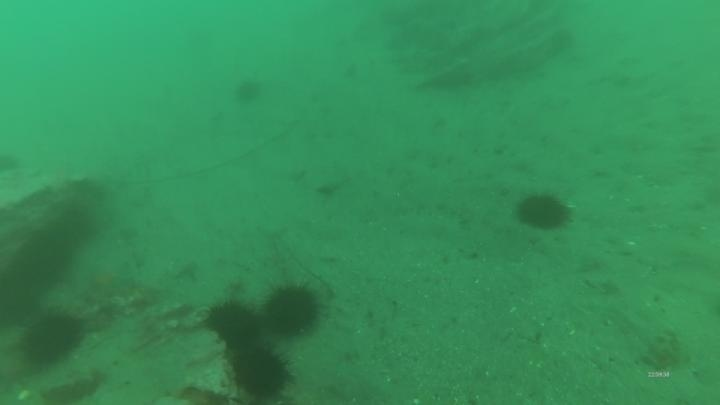echinus: (18, 306, 87, 370), (228, 343, 296, 402), (261, 279, 324, 340), (203, 297, 263, 350), (513, 189, 574, 234), (232, 75, 265, 106)
starfish: (81, 259, 135, 302)
